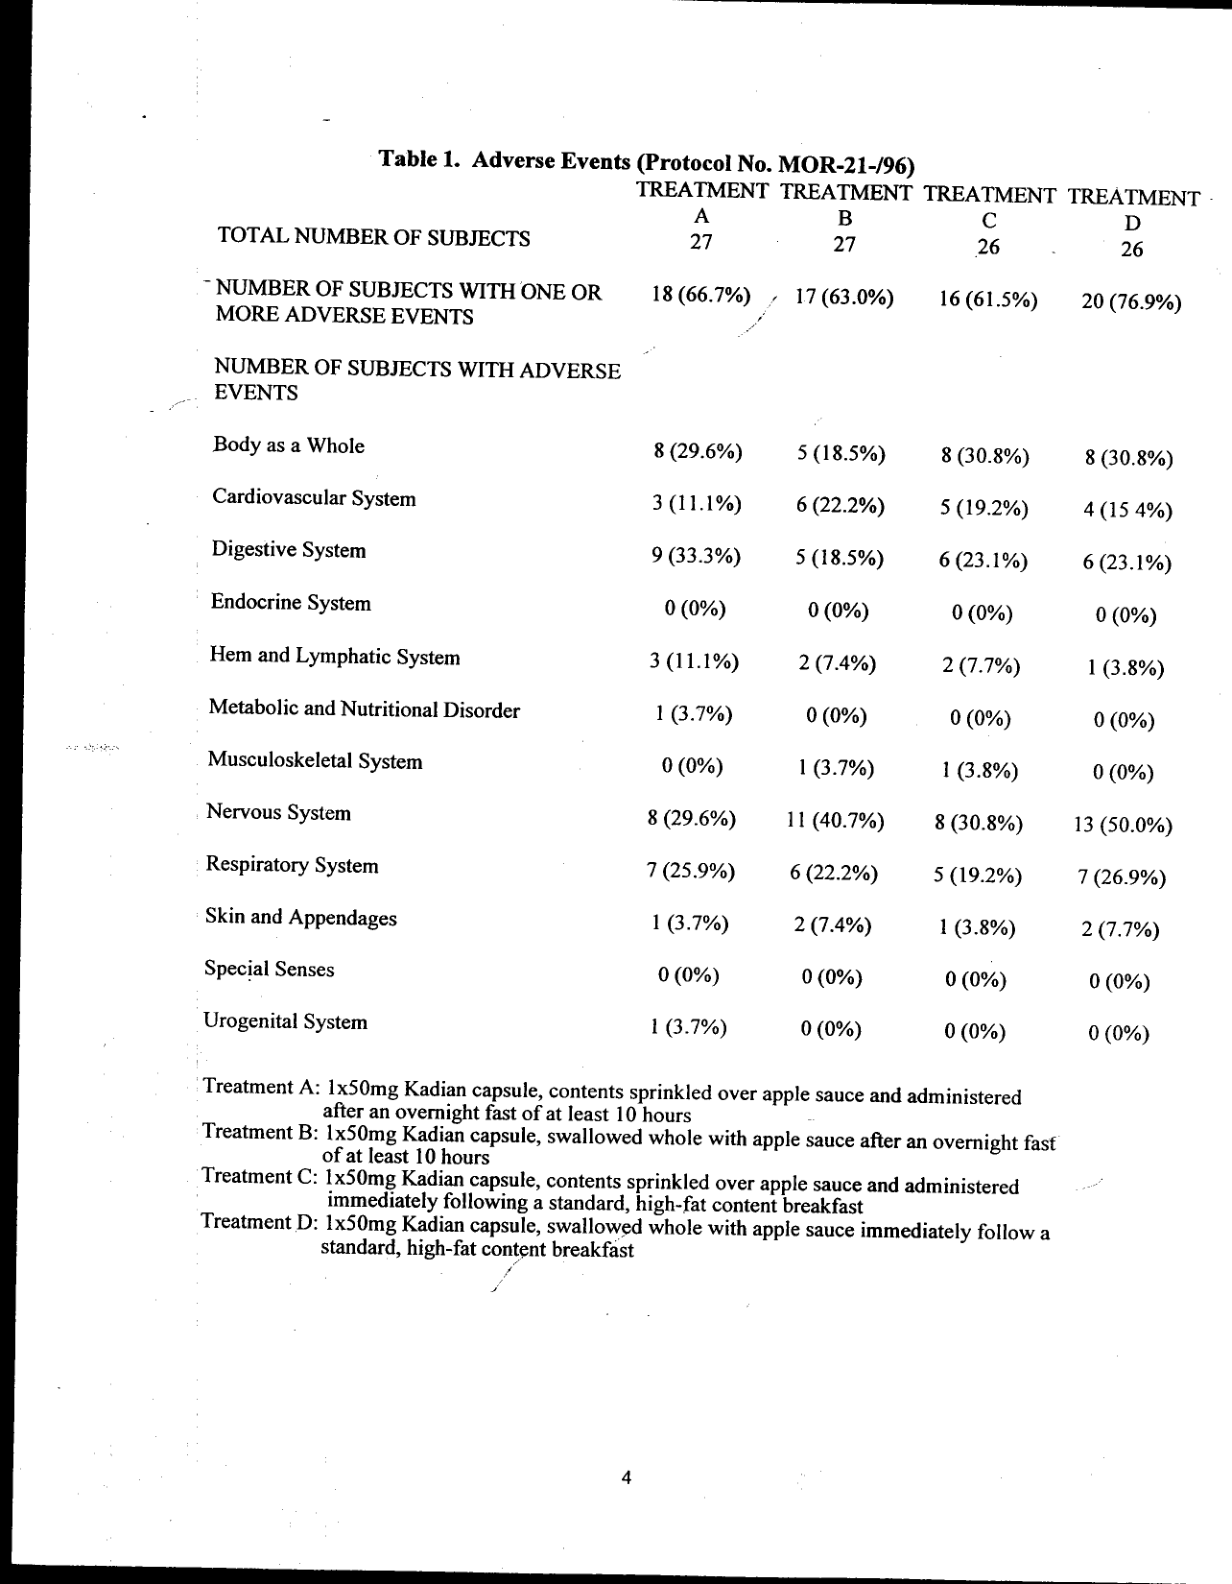nolines: (197, 179, 1201, 1052)
